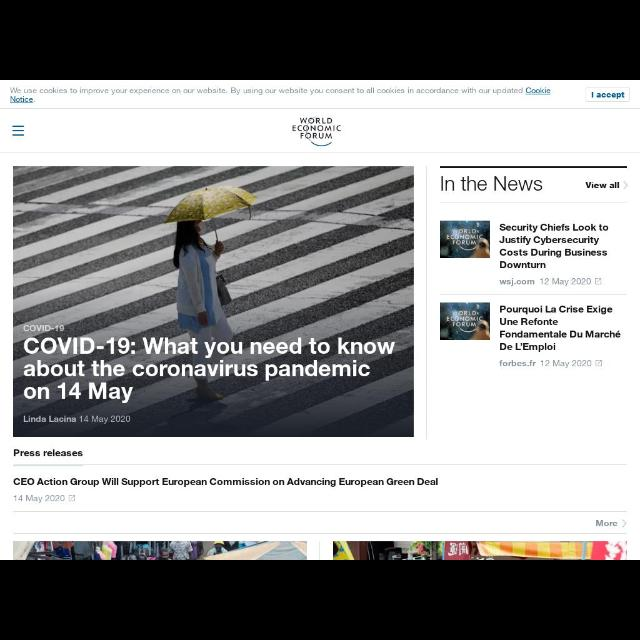icon: (10, 125, 28, 137), (594, 358, 604, 368), (622, 178, 628, 192), (68, 495, 76, 503), (594, 277, 602, 285)
image: (12, 167, 414, 437), (440, 220, 490, 258), (440, 302, 490, 340), (292, 115, 342, 147)
link: (526, 85, 552, 95), (8, 96, 36, 104)
panel: (1, 80, 638, 110)
text: (24, 336, 396, 402), (13, 474, 439, 488), (499, 304, 621, 352), (498, 221, 610, 269), (6, 86, 524, 94), (439, 175, 543, 193), (23, 412, 133, 426), (12, 448, 84, 458), (14, 491, 64, 503), (538, 276, 592, 286), (540, 358, 592, 368), (22, 322, 64, 334), (498, 358, 536, 369), (584, 180, 622, 190), (498, 277, 534, 287), (590, 90, 626, 100)
textbutton: (585, 87, 631, 101)
